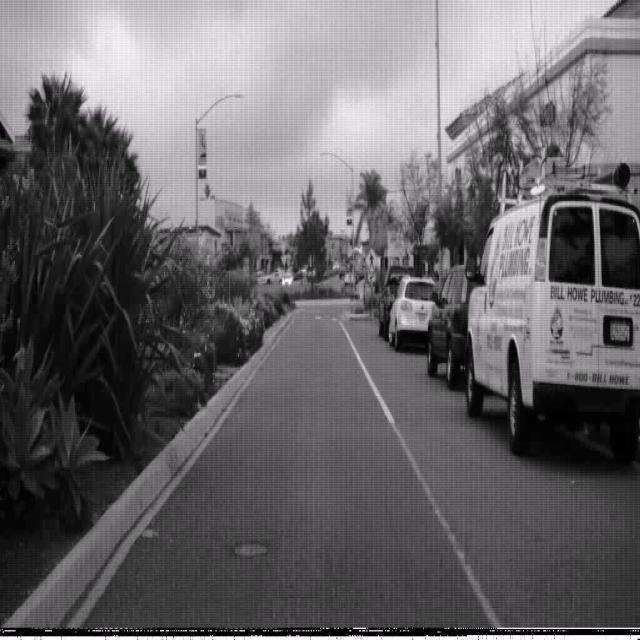pedestrianCrossing: (364, 246, 379, 274)
